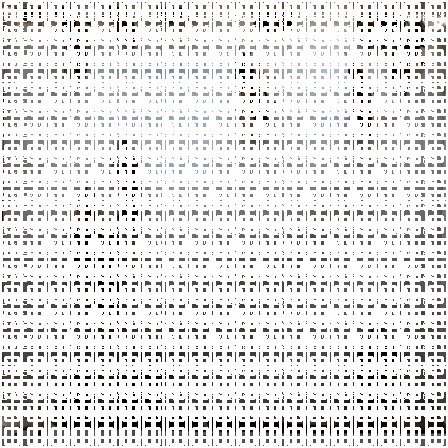bee: (214, 30, 285, 143), (328, 316, 413, 400), (51, 171, 108, 281), (104, 129, 159, 236), (334, 46, 387, 153), (106, 345, 174, 425), (87, 225, 135, 328), (45, 3, 102, 85), (382, 14, 433, 99), (347, 5, 408, 56)
